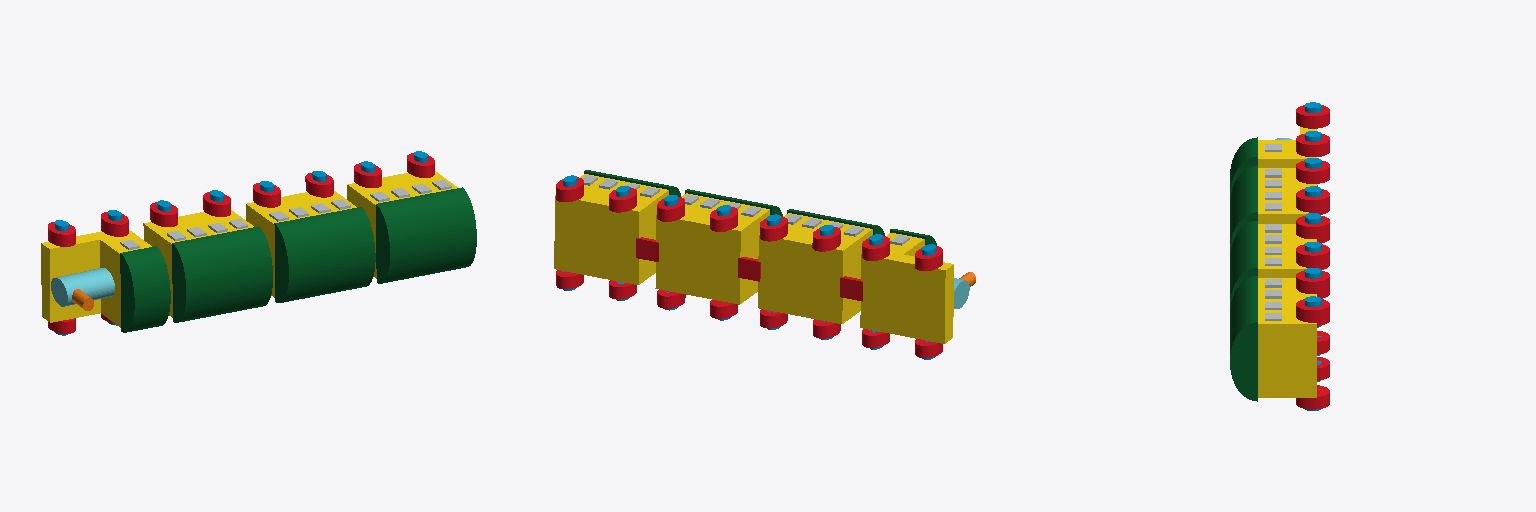
File: tinker.obj
The picture shows the model from 3 angles: view 1: azimuth 30°, elevation 25°; view 2: azimuth 150°, elevation 25°; view 3: azimuth 270°, elevation 25°; orthographic projection.
Parts seen in each view (by area): view 1: obj_0; view 2: obj_0; view 3: obj_0.
Boxes of the visible parts, x1,y1,x2,y2 form: obj_0: [41, 151, 476, 335]; obj_0: [554, 170, 975, 359]; obj_0: [1230, 102, 1329, 410].
Bounding box in the file's own units: 104 × 32.52 × 23.